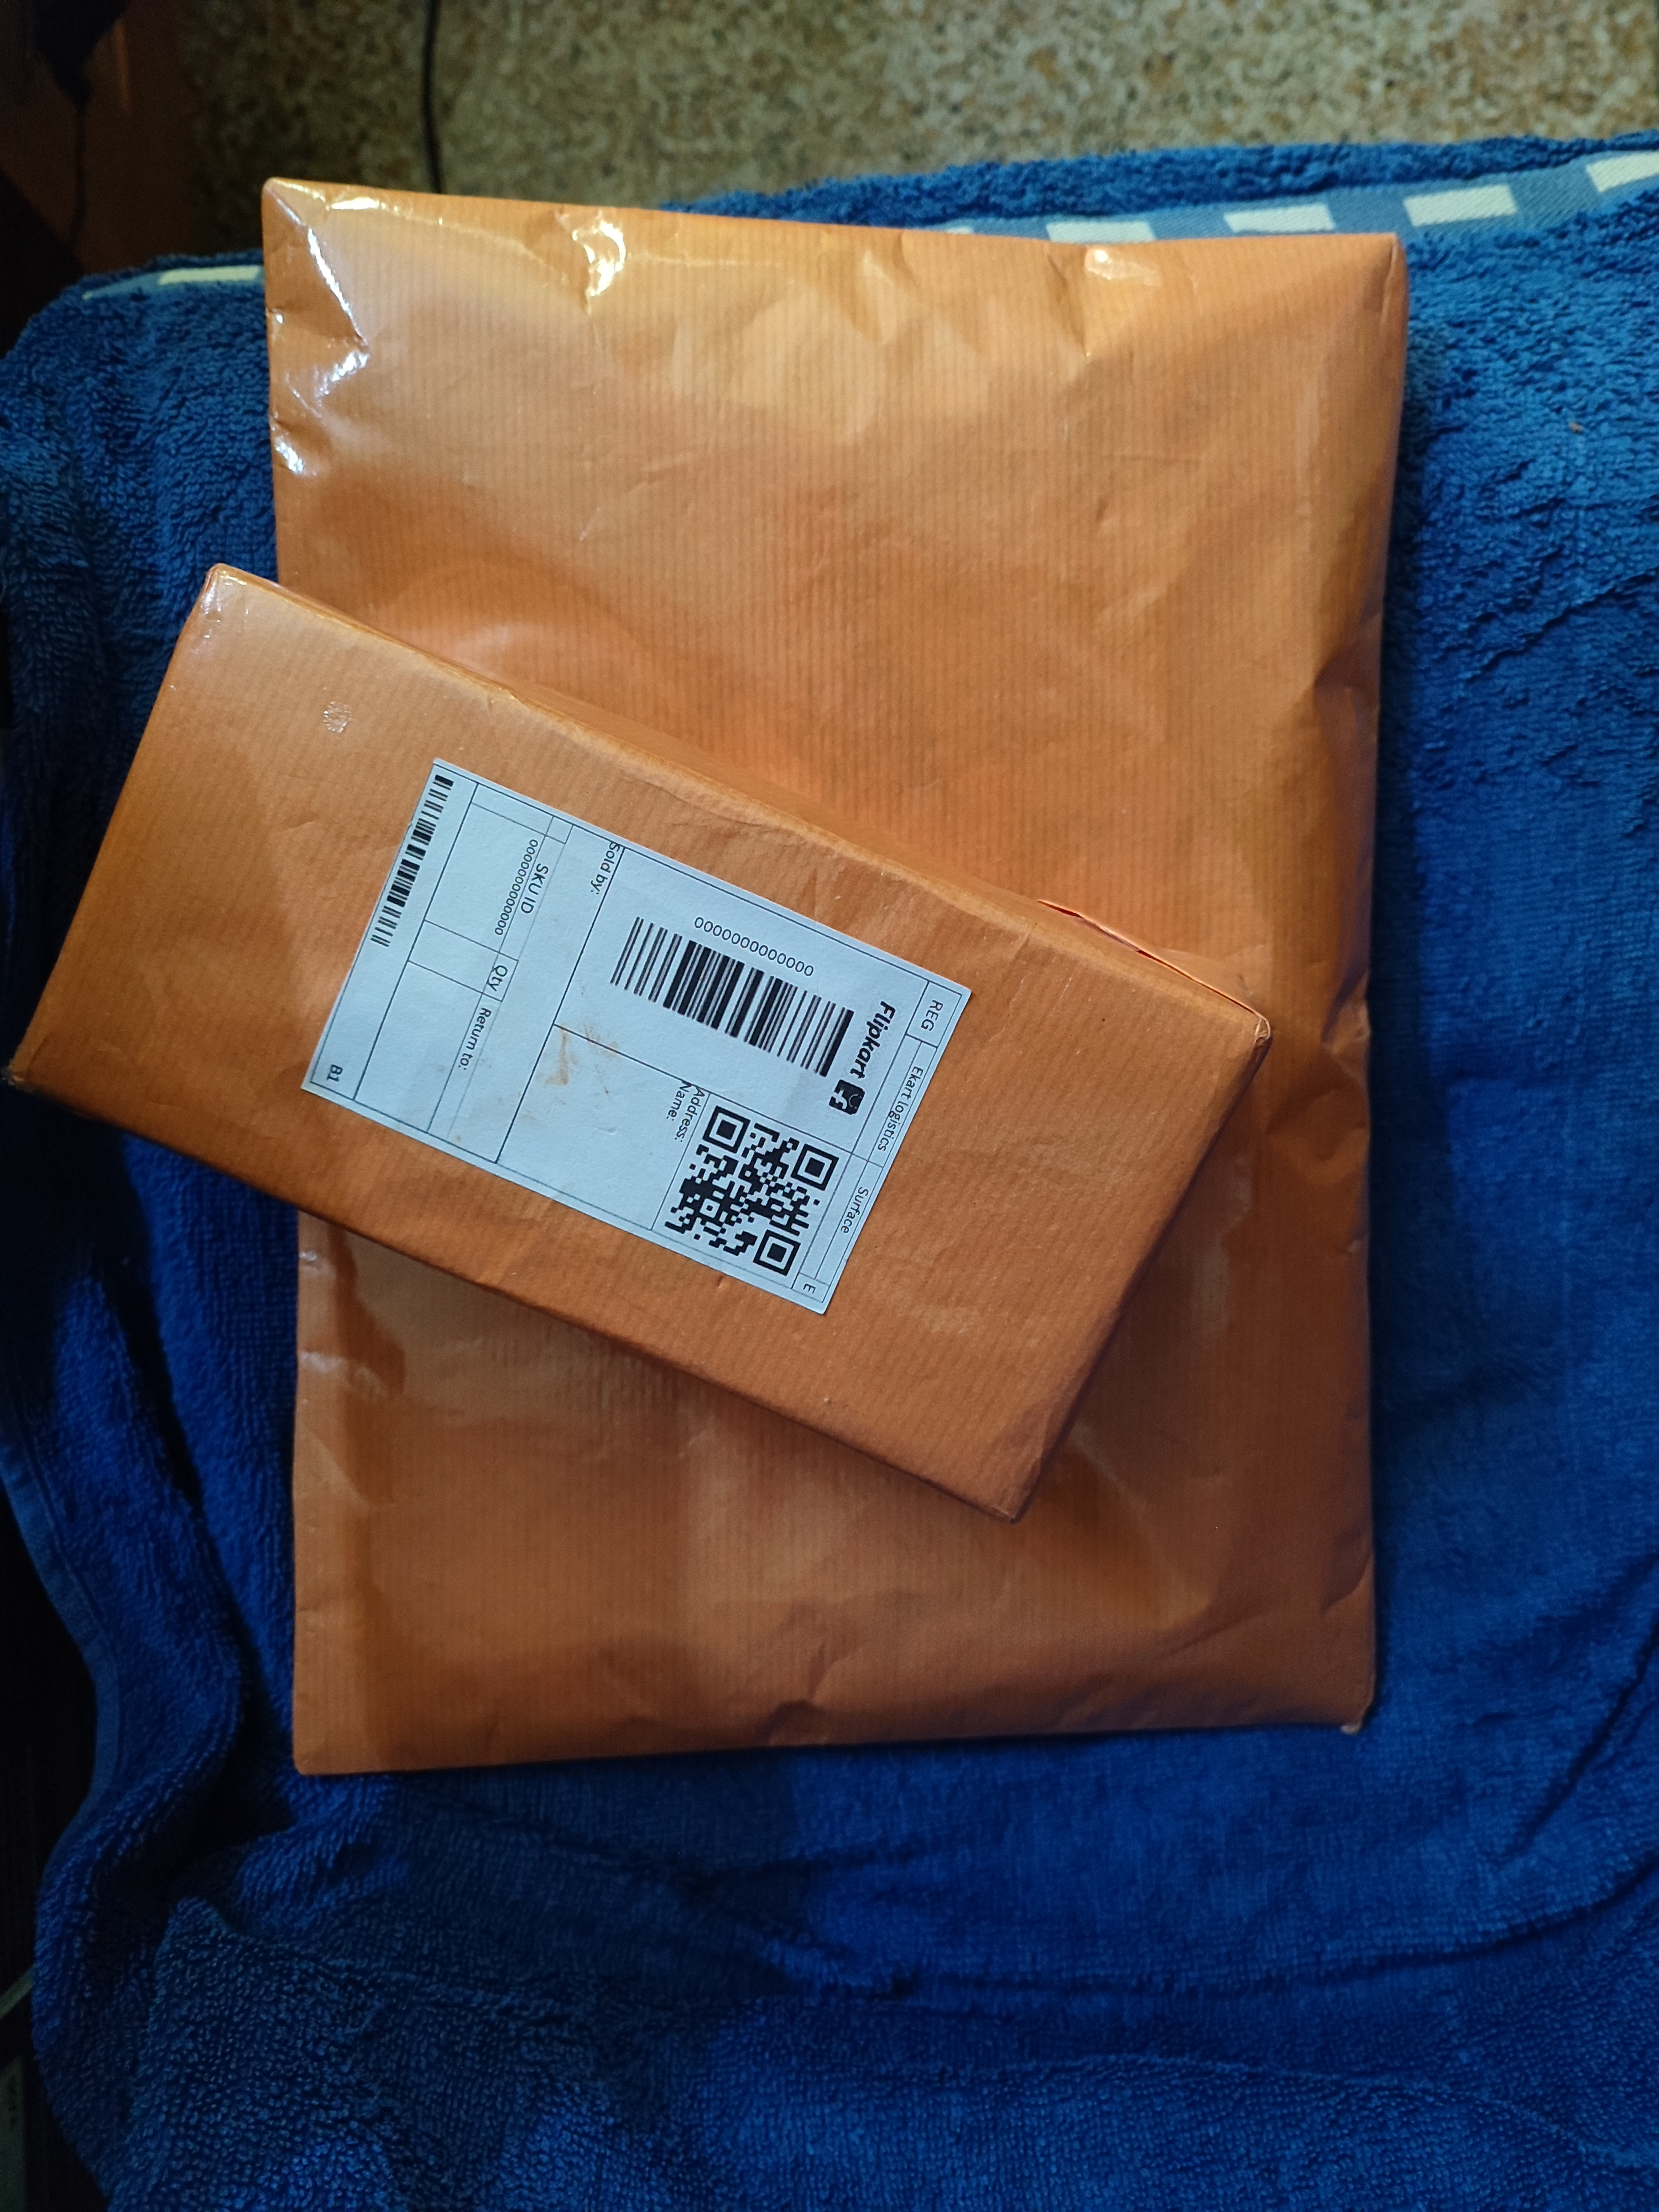Box: (178, 132, 1481, 1892), (80, 557, 1173, 1545)
